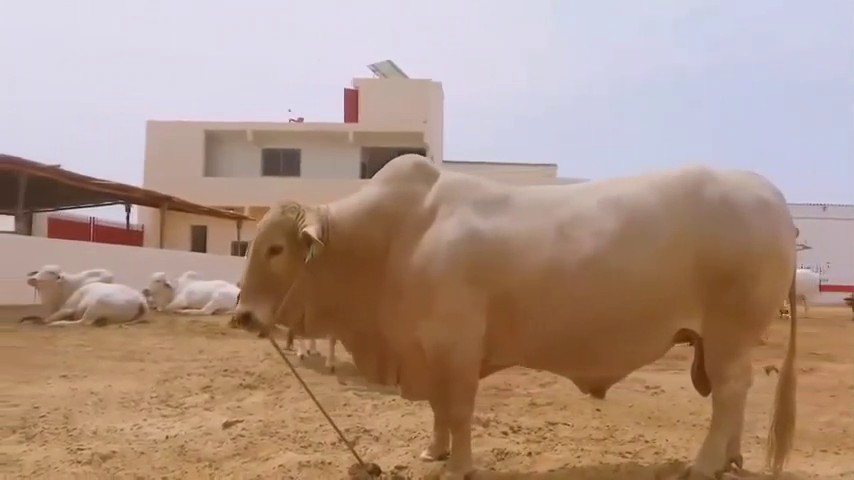bo: (234, 142, 818, 479), (135, 261, 235, 311), (61, 279, 146, 329), (31, 256, 108, 297), (789, 261, 827, 303)
